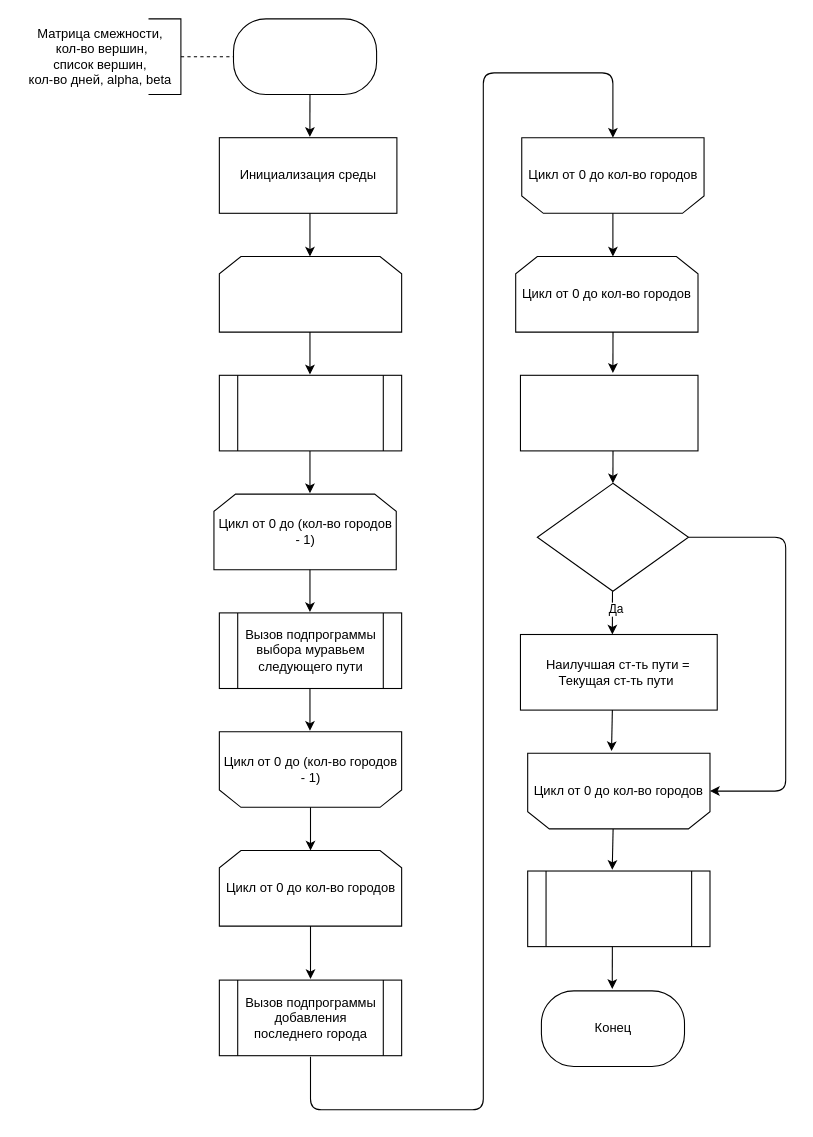
Some shapes in this 813 by 1137 pixel diagram are drawn without their labels. Here are the shapes that lost their labels. From the top down, the box of each, then its label:
(232, 18, 377, 94): Начало
(218, 255, 402, 332): Цикл от 0 до кол-во дней
(218, 374, 402, 451): Вызов подпрограммы генерирования списка муравьев
(519, 374, 698, 451): Текущая ст-ть пути = ст-ть пути для i-ой вершины
(536, 482, 688, 591): Текущая ст-ть пути меньше наилучшей?
(527, 870, 710, 947): Вызов подпрограммы пересчета матрицы феромонов
